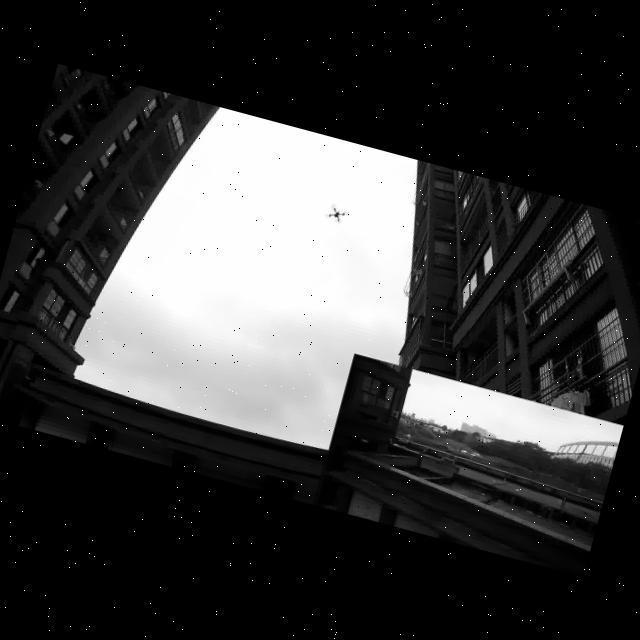Drons: (312, 194, 356, 231)
